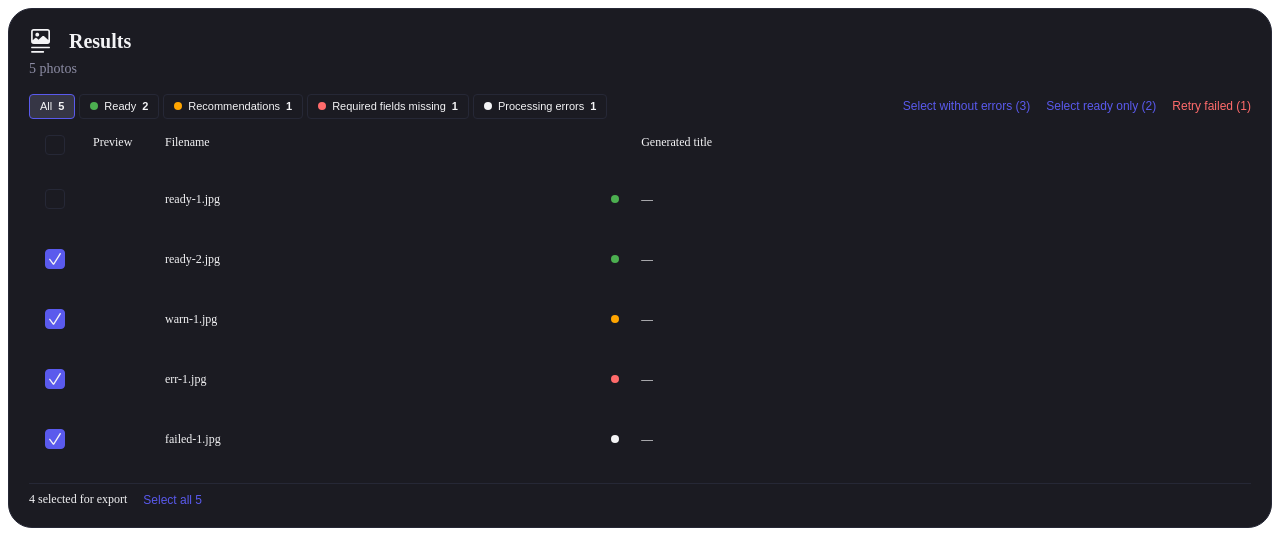
снятый в группе файл уменьшает общий счётчик экспорта
Click the button with aria-label "Ready (2)". click: coordinates (119, 106)
box: [79, 94, 159, 119]
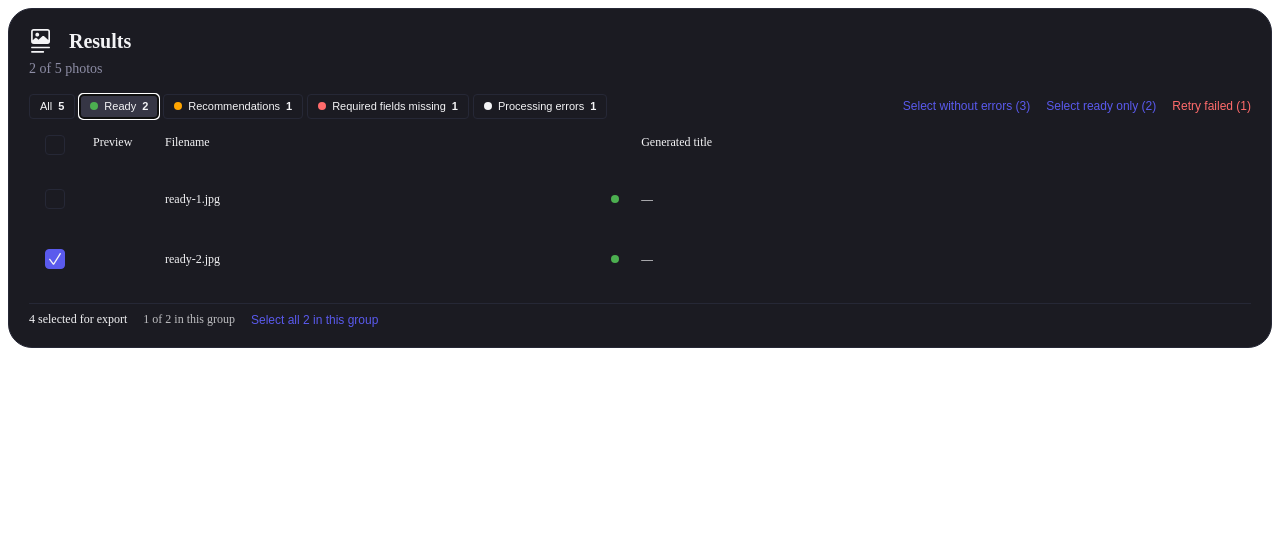
Expected: the text "4 selected for export" is shown, [29, 312, 127, 327]
Expected: the text "1 of 2 in this group" is shown, [143, 312, 235, 327]
Expected: the button "Select all 2 in this group" is shown, [251, 313, 378, 327]
